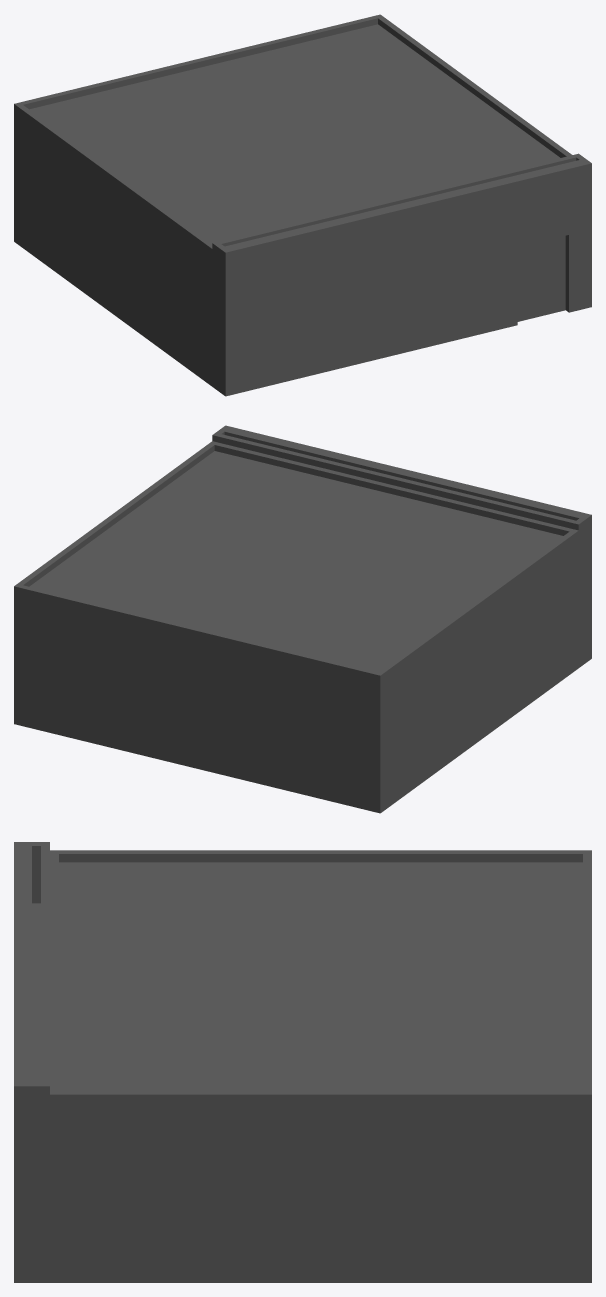
File: bld_store16.obj
3 views of the same model, one above another, from view 1: azimuth 30°, elevation 25°; view 2: azimuth 150°, elevation 25°; view 3: azimuth 270°, elevation 25° (orthographic). The views are drawn at different scales.
Size of the model in its own units: 64 by 24 by 64.
